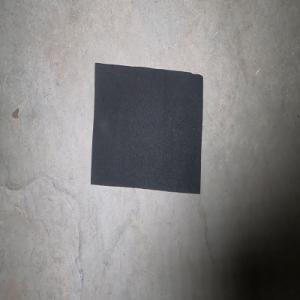PaintChip: (90, 62, 203, 194)
